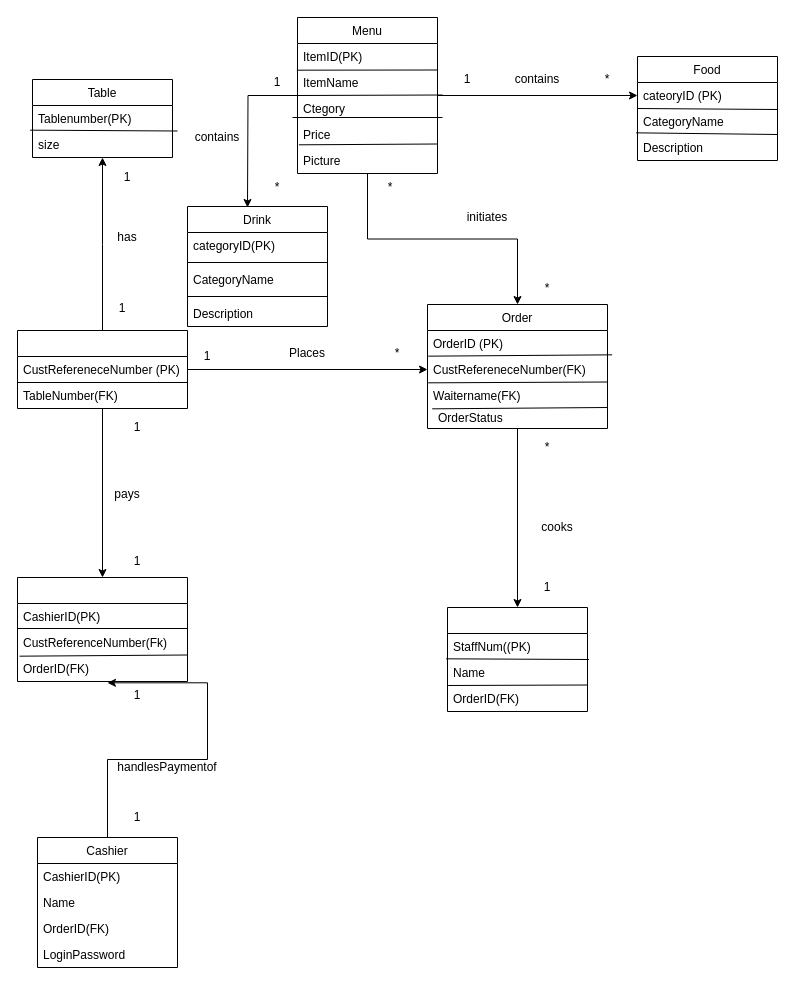
Image size: 796x988. Some labels were removed from this diagram. Here are the shapes that lost their labels. From the top down, the box of each, then its label:
(16, 330, 188, 408): Customer
(16, 576, 188, 682): Bill
(446, 606, 588, 712): Kitchen Staff
